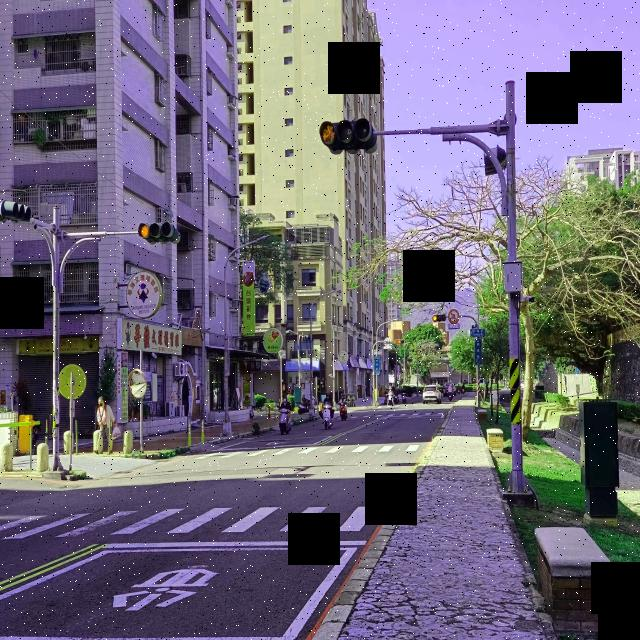zebra_crossing: (254, 206, 616, 617), (313, 219, 529, 640), (56, 202, 163, 608), (385, 251, 386, 640)
